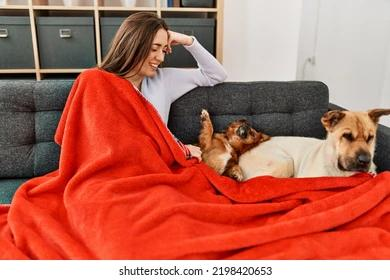blanket: (0, 68, 390, 260)
sweater: (136, 35, 229, 129)
